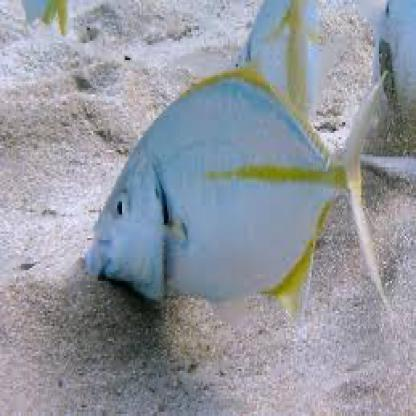Carangidae -Jacks-: (82, 57, 403, 323)
